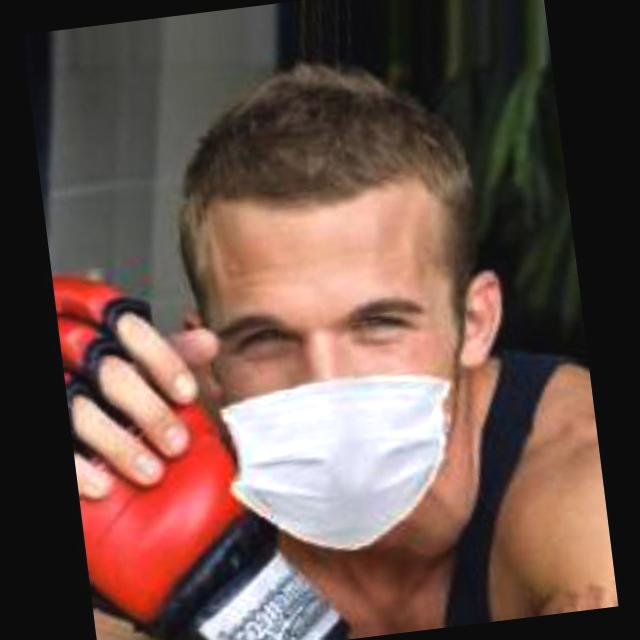suspicion: (175, 128, 524, 564)
